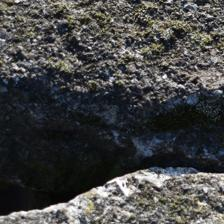Crack: (4, 79, 219, 142)
